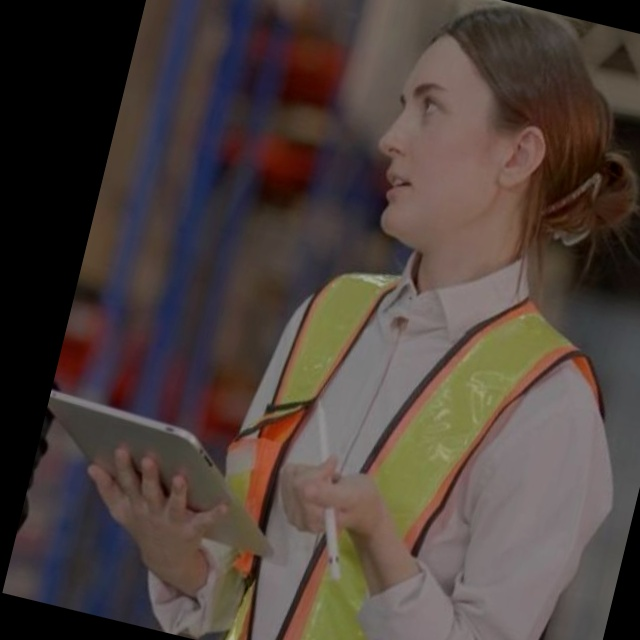Con_Chaleco: (202, 246, 627, 640)
Sin_Casco_Mascarrilla: (357, 0, 639, 290)
